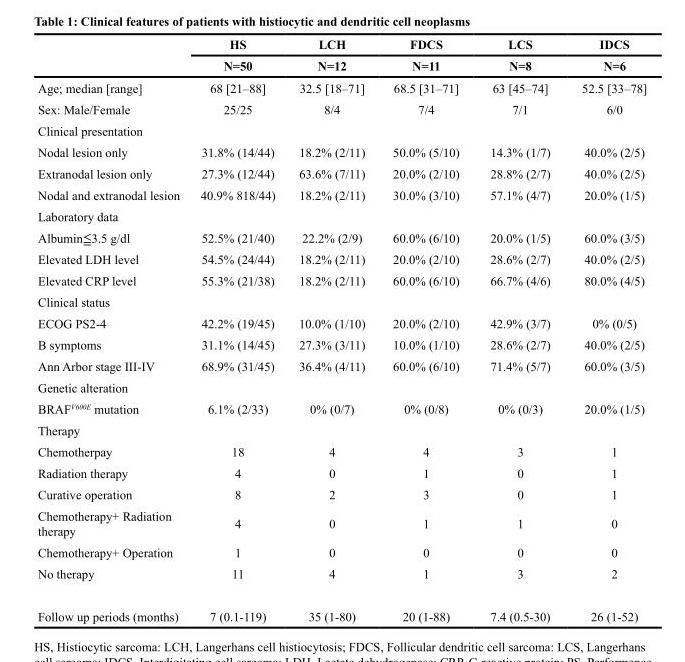table: (37, 36, 646, 623)
table column: (37, 36, 189, 623), (189, 36, 286, 623), (378, 36, 474, 623), (286, 36, 378, 623), (474, 36, 565, 623), (565, 36, 646, 623)
table column header: (37, 36, 646, 76)
table projected row header: (37, 119, 646, 141), (37, 290, 646, 312), (37, 376, 646, 397), (37, 419, 646, 440), (37, 205, 646, 225)
table row: (37, 504, 646, 541), (37, 562, 646, 594), (37, 594, 646, 623), (37, 225, 646, 249), (37, 54, 646, 76), (37, 76, 646, 98), (37, 119, 646, 141), (37, 183, 646, 205), (37, 290, 646, 312), (37, 333, 646, 355), (37, 397, 646, 419), (37, 461, 646, 483), (37, 98, 646, 119), (37, 141, 646, 162), (37, 162, 646, 183), (37, 269, 646, 290), (37, 312, 646, 333), (37, 355, 646, 376), (37, 376, 646, 397), (37, 419, 646, 440), (37, 440, 646, 461), (37, 483, 646, 504), (37, 541, 646, 562), (37, 205, 646, 225), (37, 249, 646, 269), (37, 36, 646, 54)
table spanning cell: (189, 36, 286, 76), (378, 36, 474, 76), (286, 36, 378, 76), (474, 36, 565, 76), (565, 36, 646, 76)
